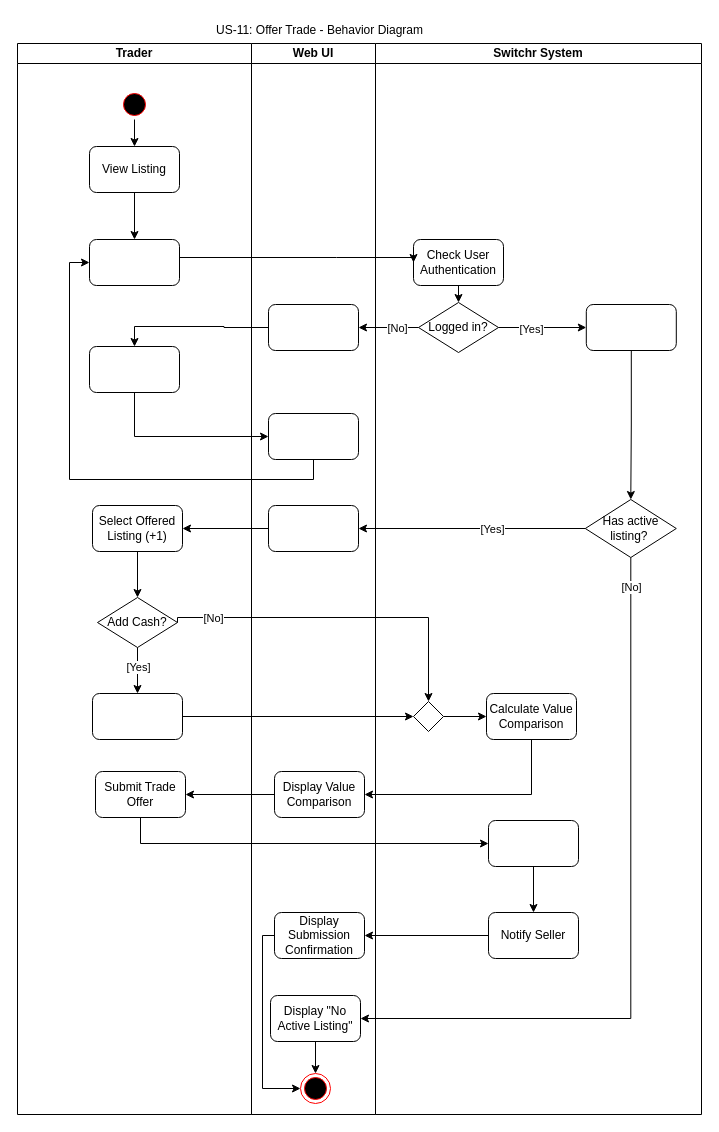
This 719x1132 diagram has some shape labels left out. The shapes that lost their labels are listed below. From the top down, each one's centre as x and y in pixels, then its label:
point (134, 262): Offer Trade
point (313, 327): Redirect to Log in page
point (630, 327): Verify Trader has active listing
point (134, 369): Log in
point (313, 436): Return to Listing
point (313, 528): Display Trade Offer form
point (137, 716): Enter Cash amount
point (533, 843): Create Trade Offer Record
